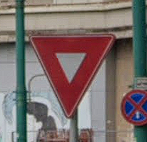cedeaza: (25, 31, 118, 119)
